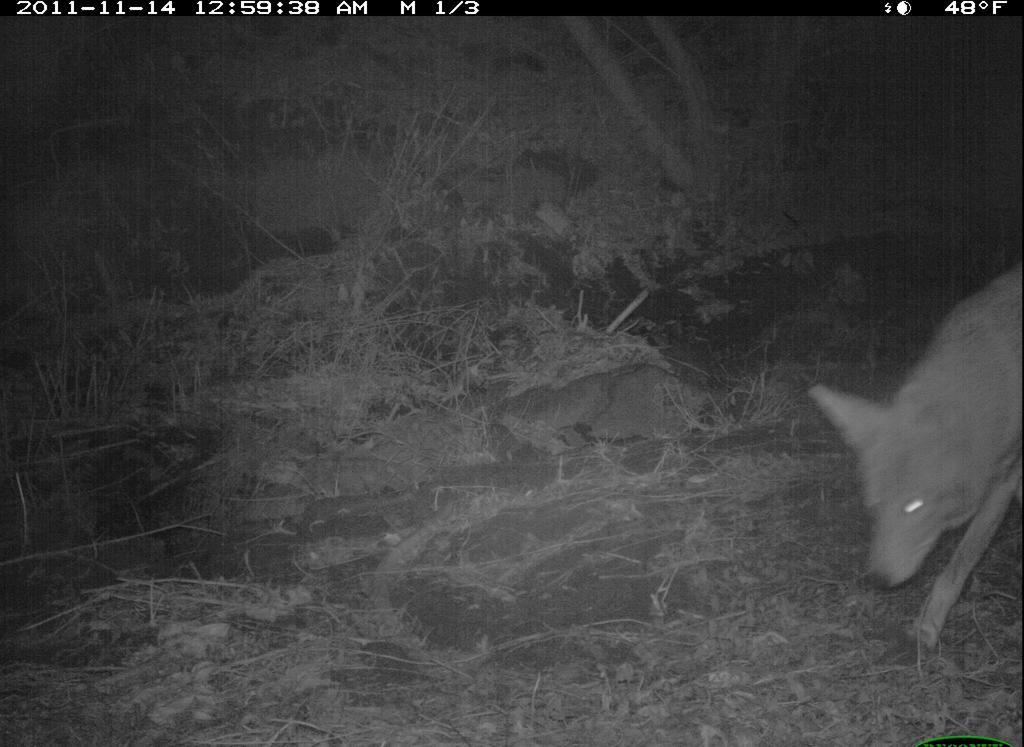coyote: (807, 236, 1022, 678)
